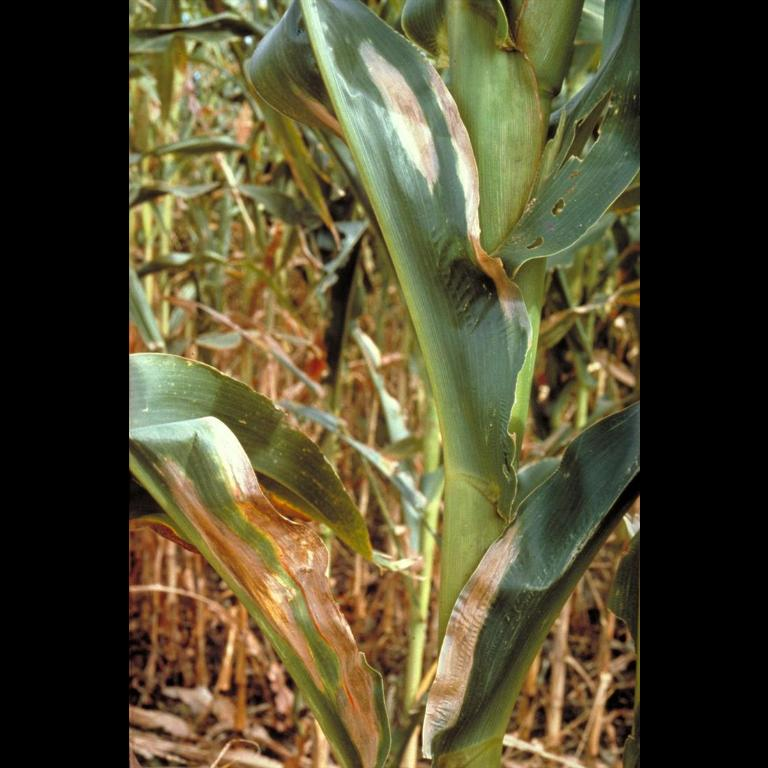blight: (371, 43, 490, 221), (244, 497, 350, 661), (456, 512, 510, 756)
